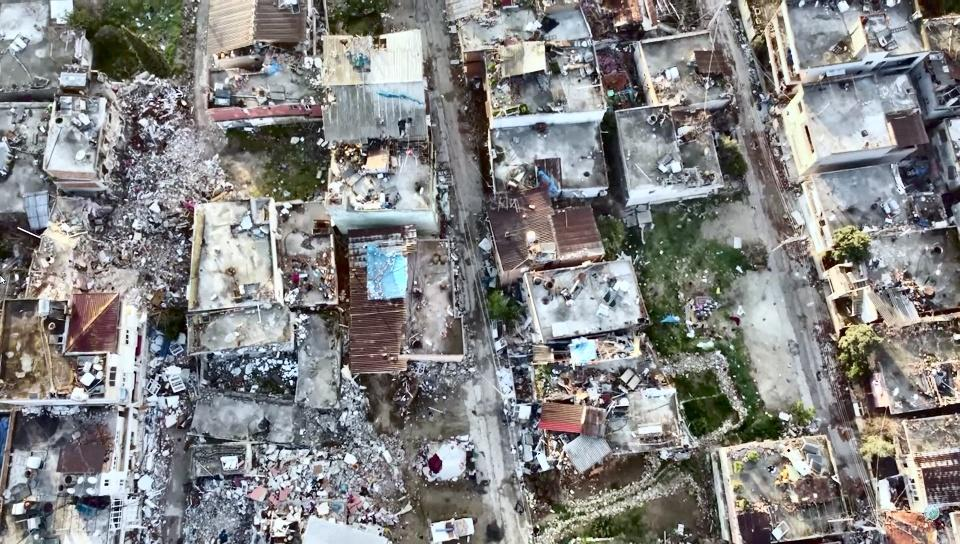kapali: (144, 77, 221, 543)
